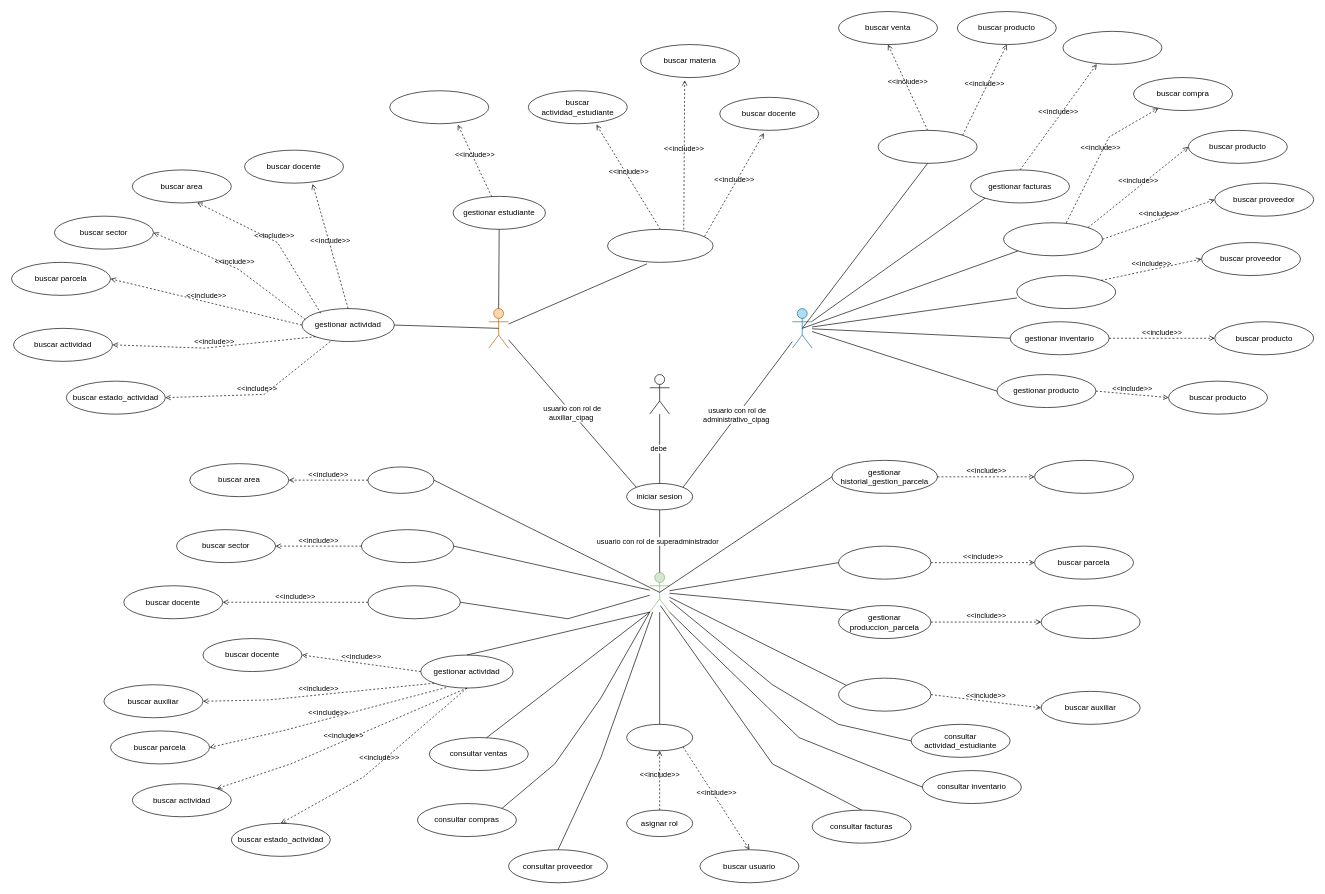
The diagram is 1325 pixels wide and 894 high, and some of its shapes have lost their labels. Each missing label, with the centre of its shape:
"administrativo_cipag" belongs at (x=802, y=328).
"auxiliar_cipag" belongs at (x=498, y=328).
"buscar estudiante" belongs at (x=439, y=107).
"buscar factura" belongs at (x=1112, y=47).
"buscar historial_gestion_parcela" belongs at (x=1084, y=476).
"buscar produccion_parcela" belongs at (x=1090, y=622).
"gestionar actividad_estudiante" belongs at (x=660, y=245).
"gestionar area" belongs at (x=400, y=479).
"gestionar auxiliar" belongs at (x=884, y=694).
"gestionar compras" belongs at (x=1053, y=239).
"gestionar docente" belongs at (x=413, y=602).
"gestionar parcela" belongs at (x=884, y=562).
"gestionar proveedor" belongs at (x=1066, y=292).
"gestionar sector" belongs at (x=407, y=546).
"gestionar usuario" belongs at (x=659, y=737).
"gestionar ventas" belongs at (x=927, y=146).
"superadministrador" belongs at (x=659, y=592).
"usuario" belongs at (x=659, y=394).
